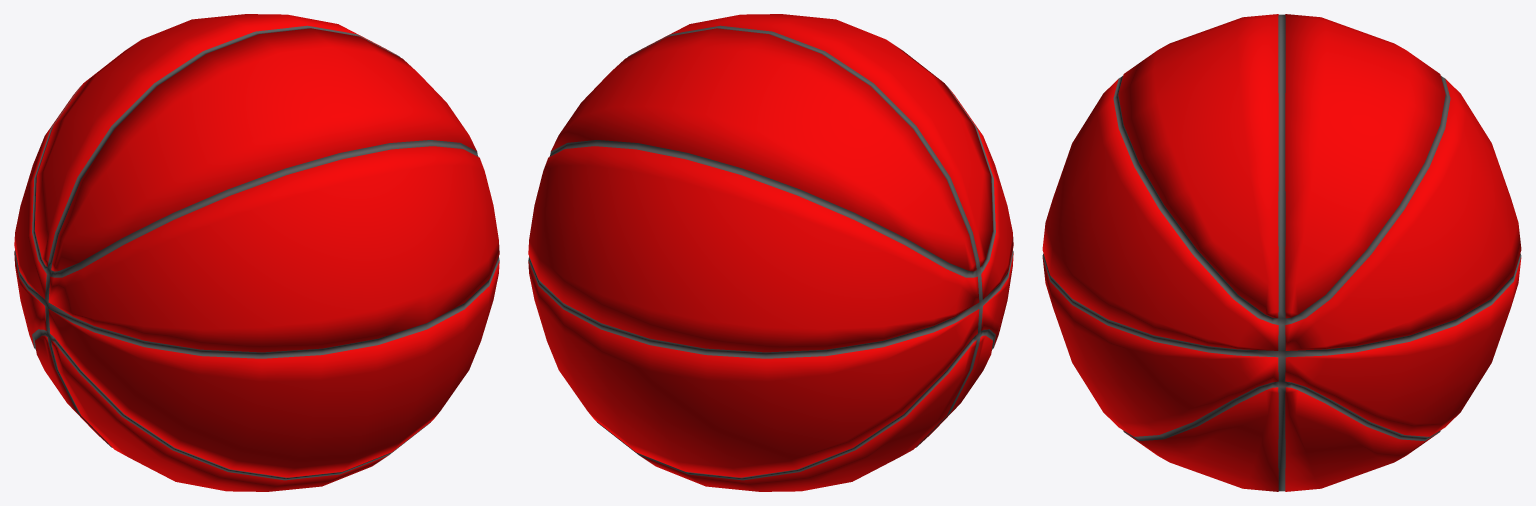
The model's file is Basket Ball.fbx.
The picture shows the model from 3 angles, left to right: view 1: azimuth 30°, elevation 25°; view 2: azimuth 150°, elevation 25°; view 3: azimuth 270°, elevation 25°; orthographic projection.
Parts seen in each view (by area): view 1: Basketball; view 2: Basketball; view 3: Basketball.
Boxes of the visible parts, x1,y1,x2,y2 form: Basketball: (14,14,499,491); Basketball: (528,14,1013,491); Basketball: (1042,14,1521,491).
Size of what is drawn, in the model's own units: 0.1561 by 0.1562 by 0.1562.
